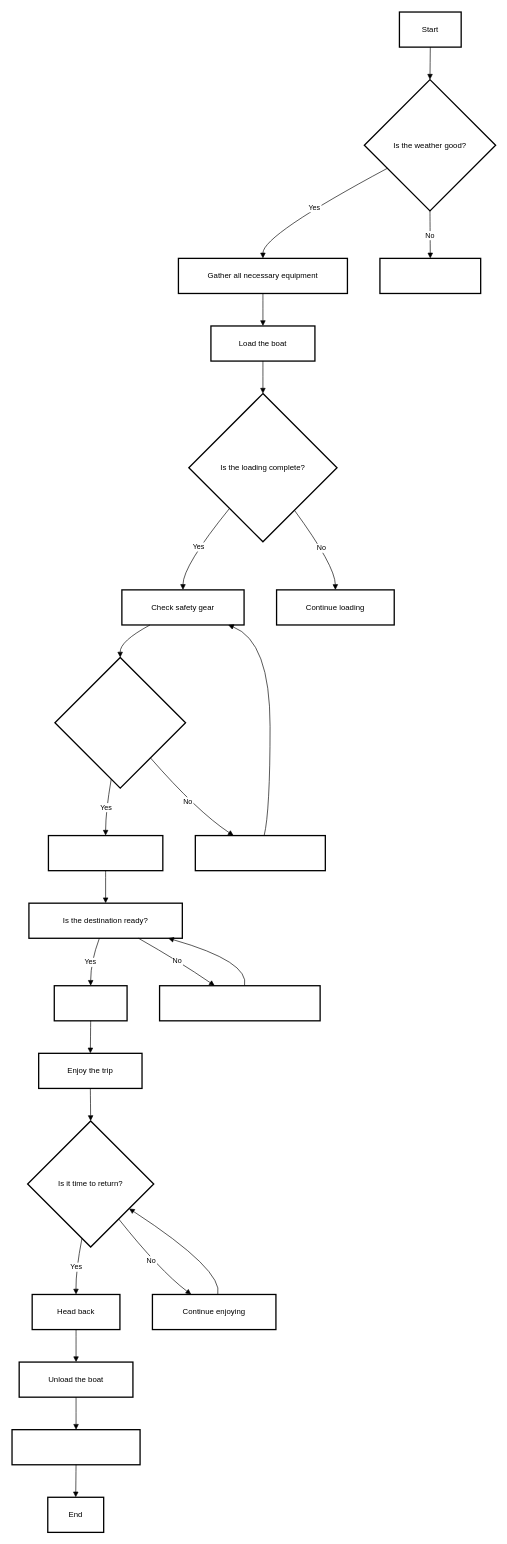
The diagram is 507 pixels wide and 1544 high, and some of its shapes have lost their labels. Here are the shapes that lost their labels. From the top down, the box of each, then its label:
(379, 257, 481, 294): Postpone trip
(54, 656, 186, 788): Is safety gear ready?
(47, 835, 163, 871): Start the engine
(194, 835, 326, 871): Prepare safety gear
(53, 985, 127, 1021): Set sail
(159, 985, 320, 1021): Wait for clear instructions
(11, 1429, 140, 1465): Pack up equipment
